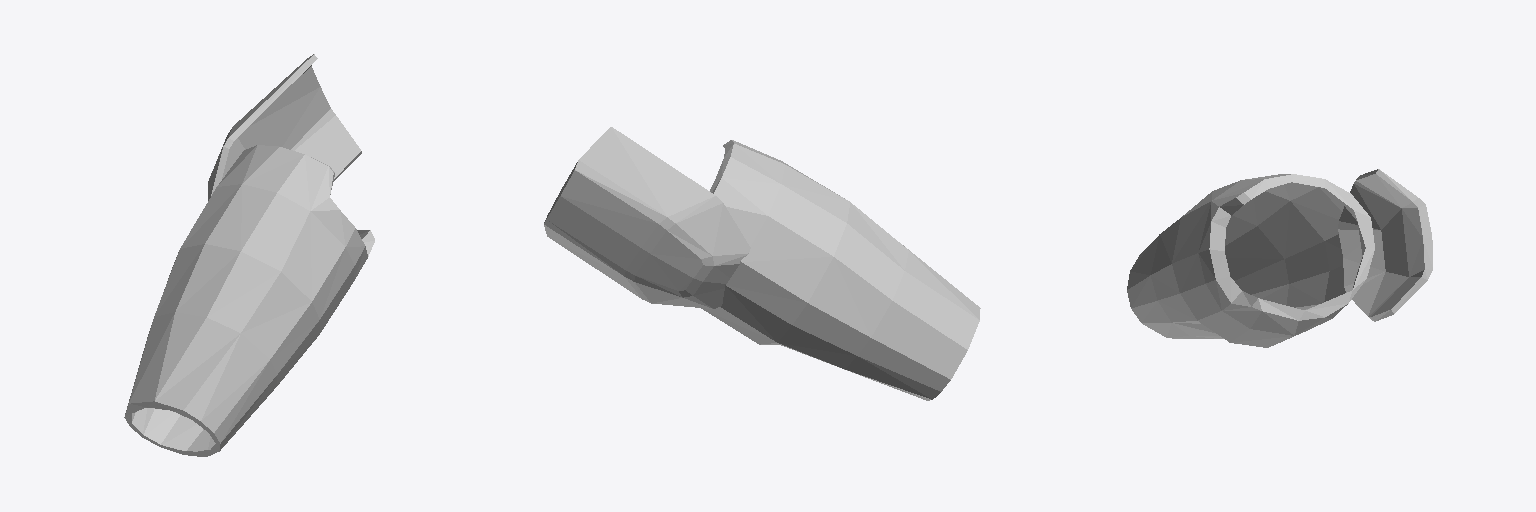
File: sd_larm.obj
3 views of the same model, side by side, from view 1: azimuth 30°, elevation 25°; view 2: azimuth 150°, elevation 25°; view 3: azimuth 270°, elevation 25° (orthographic).
Visible parts, largest first — view 1: Armor.APA_ref.smd.mesh_0.001_Armor.APA_ref.smd.mesh_0.004; view 2: Armor.APA_ref.smd.mesh_0.001_Armor.APA_ref.smd.mesh_0.004; view 3: Armor.APA_ref.smd.mesh_0.001_Armor.APA_ref.smd.mesh_0.004.
Boxes of the visible parts, x1,y1,x2,y2 form: Armor.APA_ref.smd.mesh_0.001_Armor.APA_ref.smd.mesh_0.004: [124, 54, 374, 456]; Armor.APA_ref.smd.mesh_0.001_Armor.APA_ref.smd.mesh_0.004: [544, 127, 980, 400]; Armor.APA_ref.smd.mesh_0.001_Armor.APA_ref.smd.mesh_0.004: [1127, 169, 1432, 347].
Bounding box in the file's own units: 12.92 × 10.54 × 10.47.